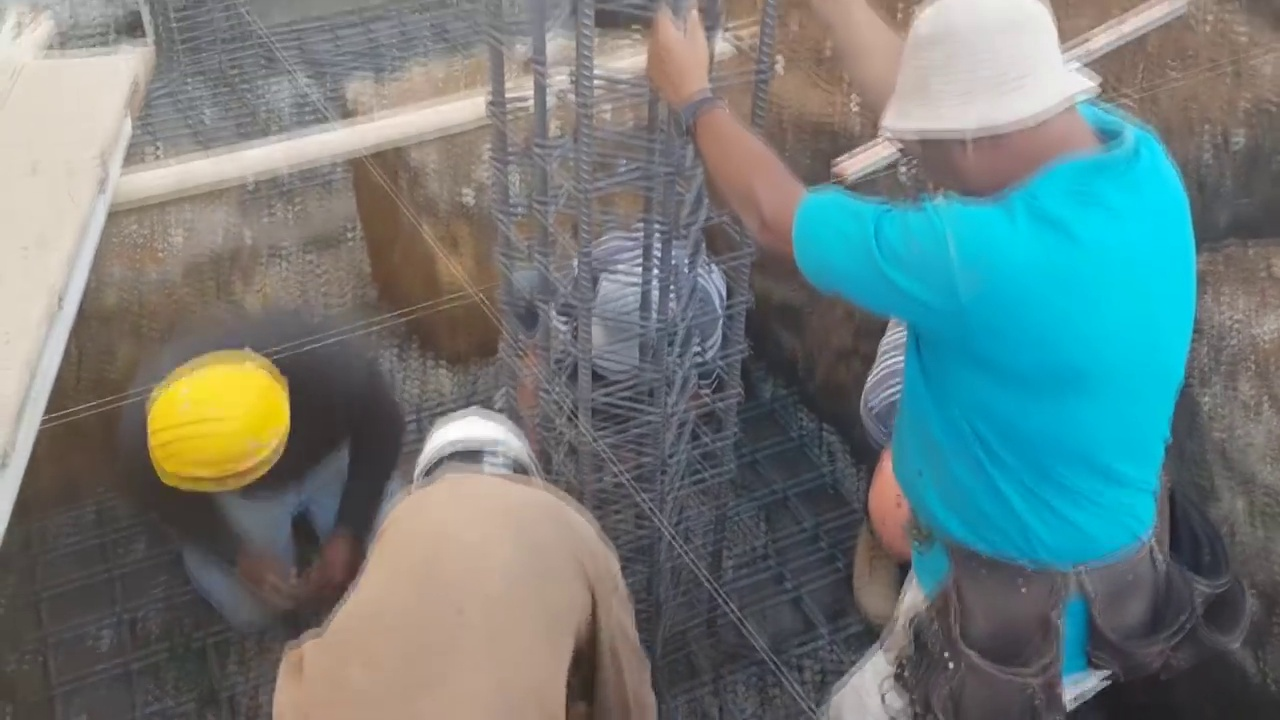helmet: (141, 350, 292, 495)
helmet-off: (890, 7, 1122, 193), (584, 264, 666, 392)
helmet-on: (125, 344, 299, 529), (407, 415, 541, 489)
person: (651, 3, 1200, 720), (270, 395, 660, 720), (84, 294, 403, 644), (488, 200, 750, 442)
